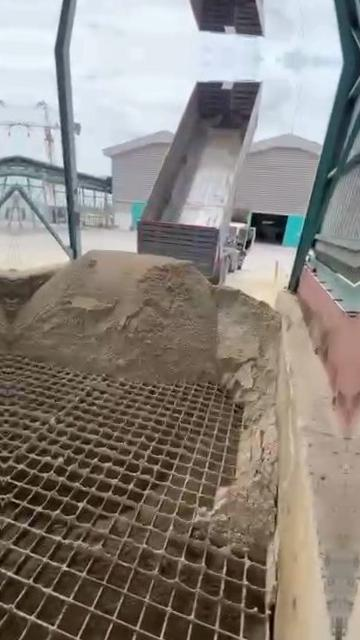sand: (10, 251, 280, 547)
